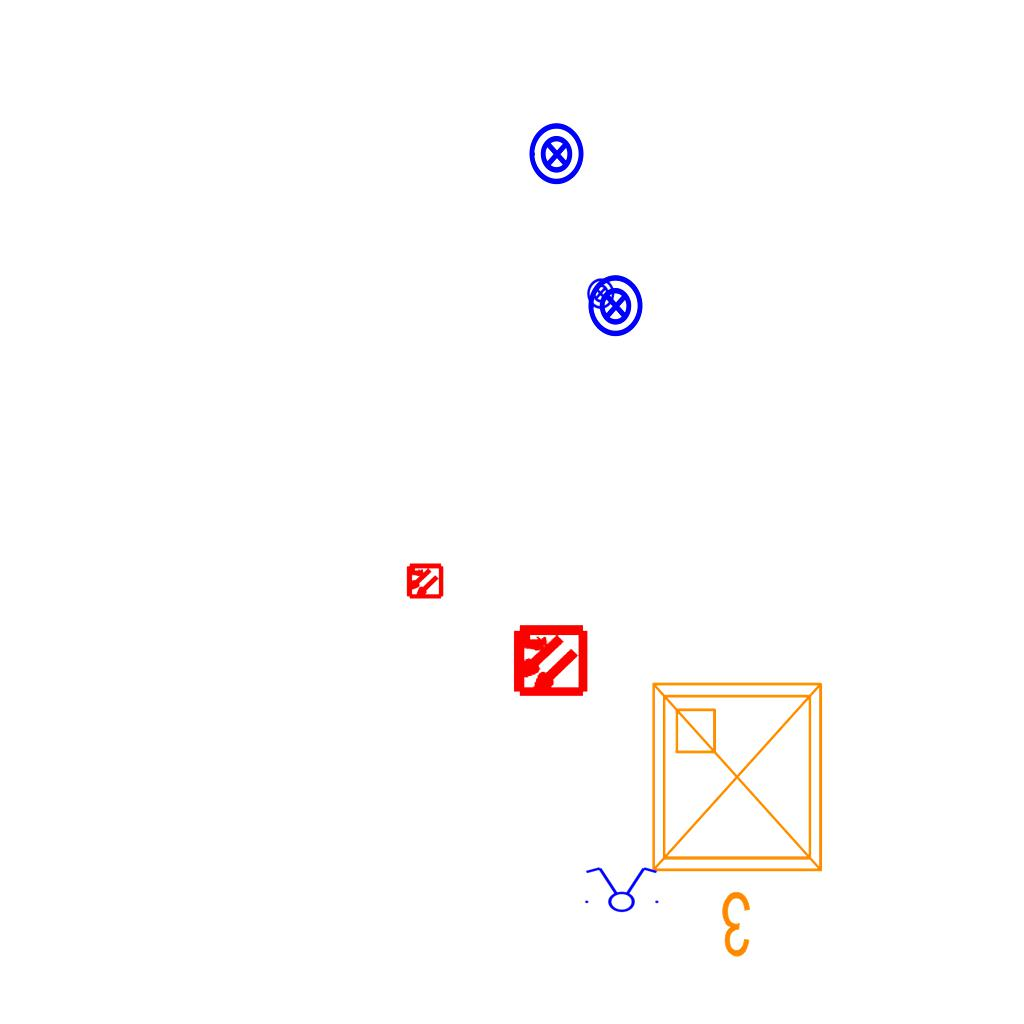Einbaudownlights_LED_Konferenzraeume: (637, 668, 845, 968)
OT_Multisensormelder_(Kombination_RMO_WMD): (492, 604, 605, 717), (396, 553, 452, 609)
Serienschalter: (579, 865, 663, 913)
Taster_beleuchtet: (583, 273, 649, 339), (524, 121, 590, 187), (584, 277, 617, 310)
